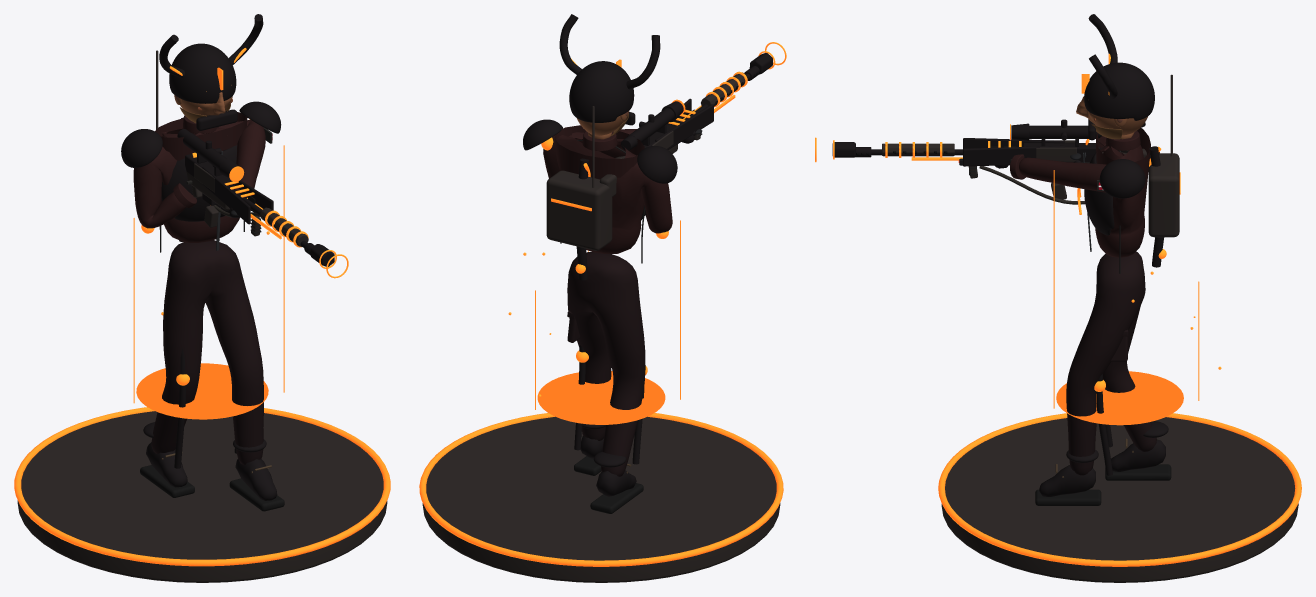
File: skytte_lava.glb
3 renders of one model, left to right at view 1: azimuth 30°, elevation 25°; view 2: azimuth 150°, elevation 25°; view 3: azimuth 270°, elevation 25°, orthographic. The views are drawn at different scales.
Parts seen in each view (by area): view 1: fod_net, menneske_net, hoved_net, op4.002_net, vaaben_net, op2.001_net, op3_net, op4.001_net, op4_net, op2_net; view 2: fod_net, menneske_net, hoved_net, op3.001_net, op4.002_net, vaaben_net, op2.001_net, op4.001_net, op4_net, op3_net; view 3: fod_net, menneske_net, hoved_net, op4.002_net, vaaben_net, op3.001_net, op2.001_net, op3_net, op4.001_net.
Boxes of the visible parts, x1,y1,x2,y2 form: fod_net: (14,407,390,582); menneske_net: (133,112,284,511); hoved_net: (159,14,263,130); op4.002_net: (133,145,284,419); vaaben_net: (177,129,334,266); op2.001_net: (121,101,281,221); op3_net: (192,152,308,246); op4.001_net: (141,117,249,468); op4_net: (247,197,348,278); op2_net: (204,181,263,236); fod_net: (419,413,783,582); menneske_net: (543,125,702,513); hoved_net: (559,14,660,136); op3.001_net: (546,106,612,250); op4.002_net: (508,220,680,424); vaaben_net: (599,53,772,196); op2.001_net: (523,119,677,220); op4.001_net: (541,137,668,464); op4_net: (583,42,786,176); op3_net: (651,72,747,148); fod_net: (938,413,1301,582); menneske_net: (995,127,1171,505); hoved_net: (1076,14,1154,140); op4.002_net: (1053,170,1221,425); vaaben_net: (832,119,1159,166); op3.001_net: (1148,74,1180,237); op2.001_net: (1077,122,1145,235); op3_net: (882,139,1089,161); op4.001_net: (1094,146,1166,475).
Size of the model in its own units: 1.94 by 2.78 by 2.59.
